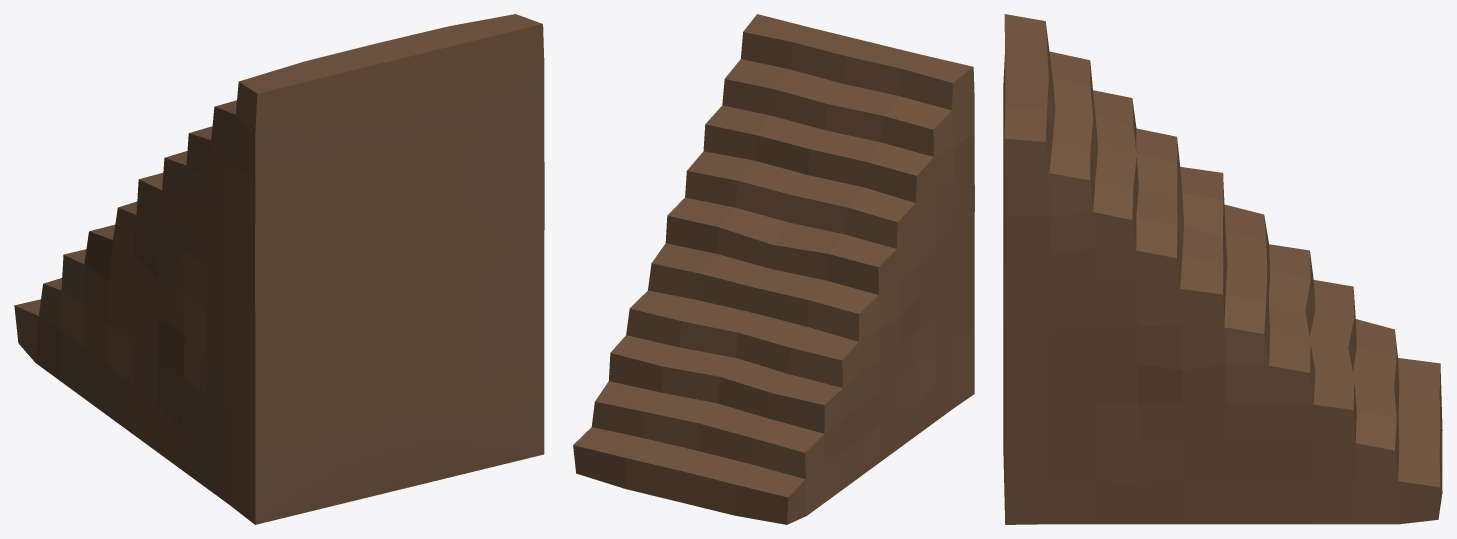
File: Stone_Stairs.fbx
3 views of the same model, side by side, from view 1: azimuth 30°, elevation 25°; view 2: azimuth 150°, elevation 25°; view 3: azimuth 270°, elevation 25° (orthographic). The views are drawn at different scales.
Parts seen in each view (by area): view 1: Stone_Stairs; view 2: Stone_Stairs; view 3: Stone_Stairs.
Part boxes in pixels (<box>): Stone_Stairs: <box>14,14,544,524</box>; Stone_Stairs: <box>573,14,974,524</box>; Stone_Stairs: <box>1003,14,1442,524</box>.
Size of the model in its own units: 203 by 289 by 298.
